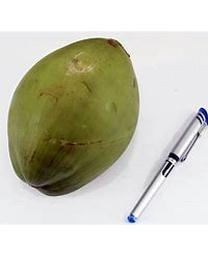coconut: (7, 37, 139, 196)
